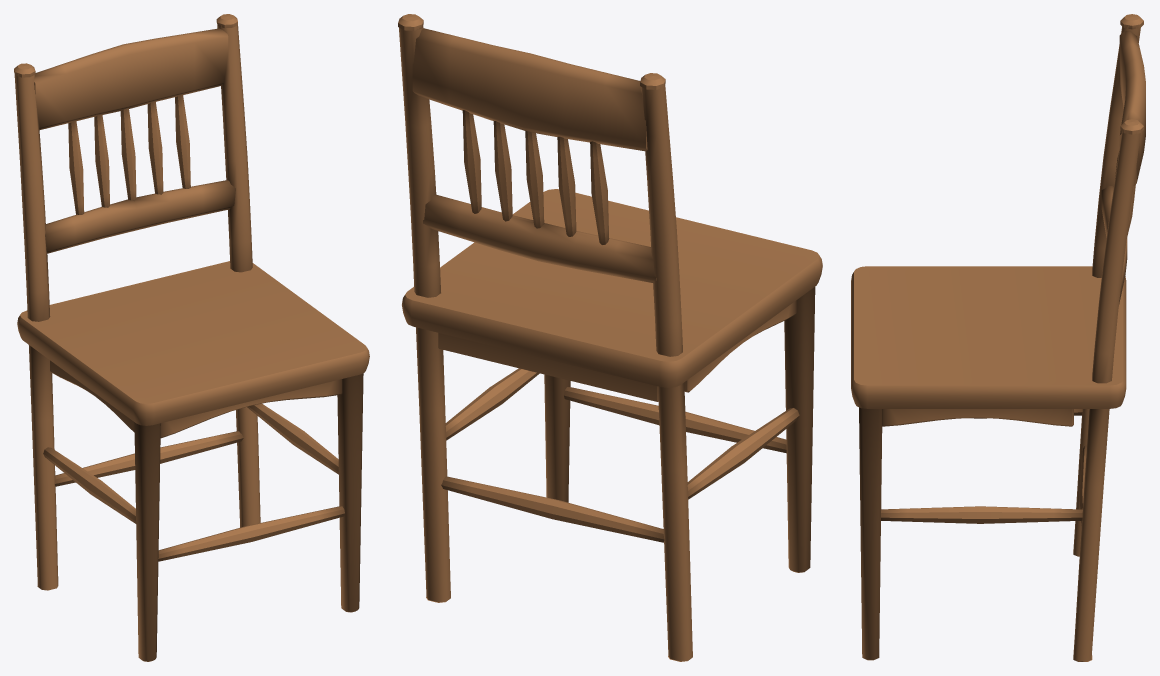
File: chairWood.glb
The picture shows the model from 3 angles, left to right: view 1: azimuth 30°, elevation 25°; view 2: azimuth 150°, elevation 25°; view 3: azimuth 270°, elevation 25°; orthographic projection. The views are drawn at different scales.
Visible parts, largest first — view 1: chairWood; view 2: chairWood; view 3: chairWood.
Part boxes in pixels (box(x1,y1,x2,y2)): chairWood: box(14, 14, 369, 661); chairWood: box(398, 14, 822, 661); chairWood: box(851, 14, 1145, 661).
Bounding box in the file's own units: 0.44 × 0.902 × 0.4499.
